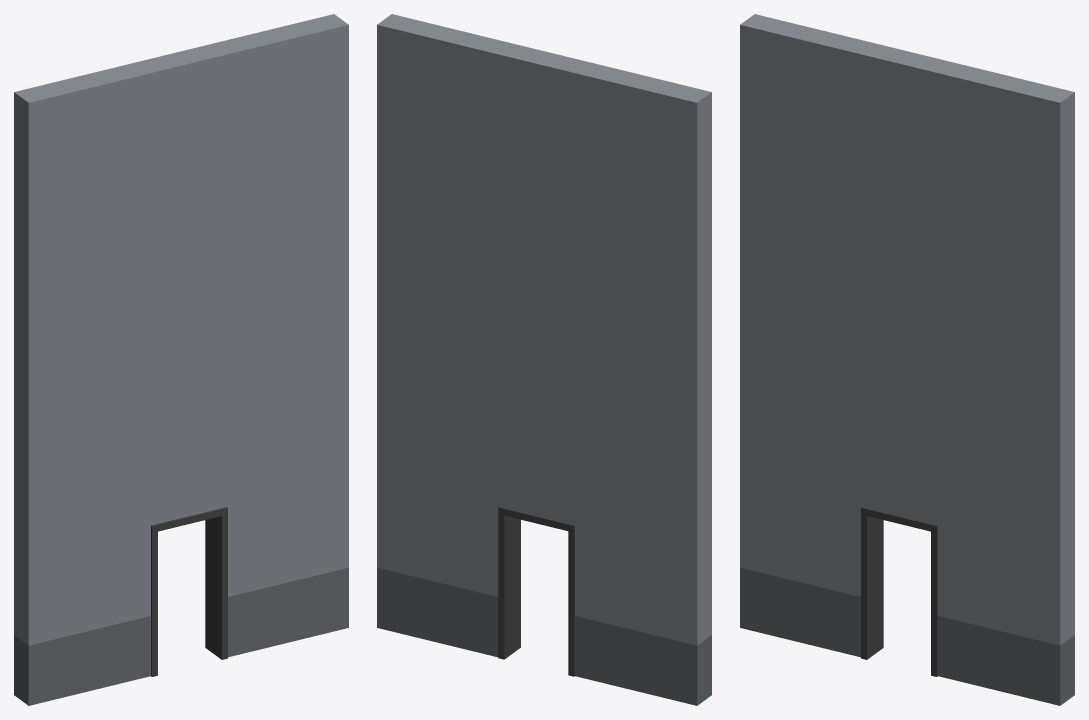
File: Wall3_07.fbx
The picture shows the model from 3 angles, left to right: view 1: azimuth 30°, elevation 25°; view 2: azimuth 150°, elevation 25°; view 3: azimuth 330°, elevation 25°; orthographic projection.
Visible parts, largest first — view 1: Wall3_07; view 2: Wall3_07; view 3: Wall3_07.
Boxes of the visible parts, x1=… form: Wall3_07: x1=14, y1=14, x2=348, y2=705; Wall3_07: x1=377, y1=14, x2=711, y2=705; Wall3_07: x1=740, y1=14, x2=1074, y2=705.
Size of the model in its own units: 500 by 900 by 44.95.
